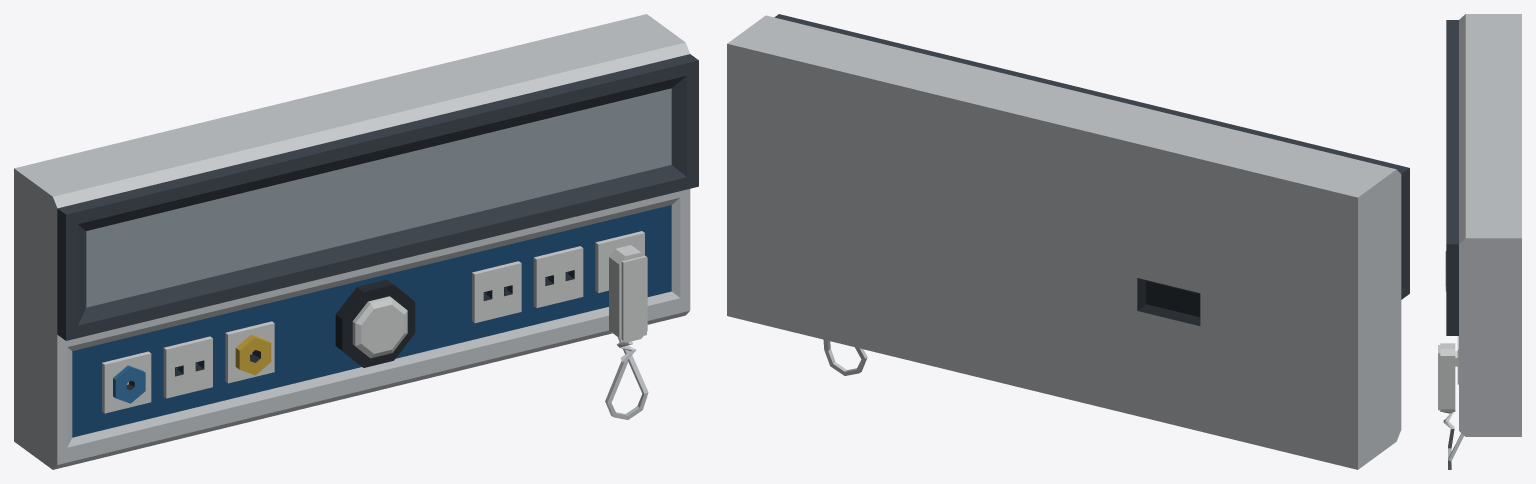
Rendered from bed-head-service-panel-67f6f6.glb.
3 renders of one model, left to right at view 1: azimuth 30°, elevation 25°; view 2: azimuth 150°, elevation 25°; view 3: azimuth 270°, elevation 25°, orthographic. The views are drawn at different scales.
Visible parts, largest first — view 1: panel, handset; view 2: panel; view 3: panel, handset.
Boxes of the visible parts, x1,y1,x2,y2 form: panel: (14,14,698,469); handset: (605,245,648,419); panel: (727,14,1409,469); panel: (1445,14,1521,436); handset: (1438,343,1463,469).
Size of the model in its own units: 1.6 by 0.8503 by 0.253.
